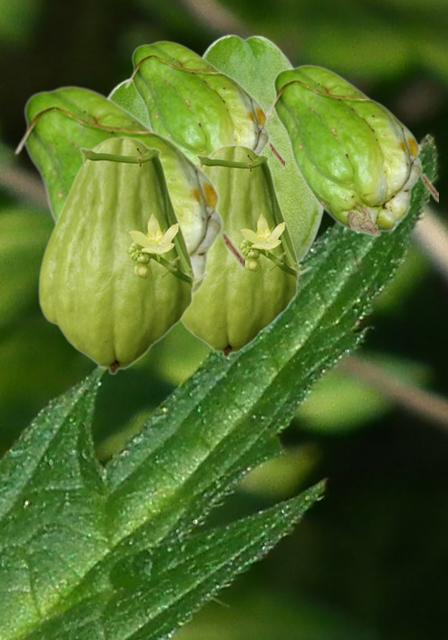sayote: (13, 85, 243, 296), (37, 136, 209, 374), (265, 64, 437, 236), (202, 33, 325, 263), (181, 144, 312, 357), (124, 40, 283, 168), (107, 76, 147, 124)
